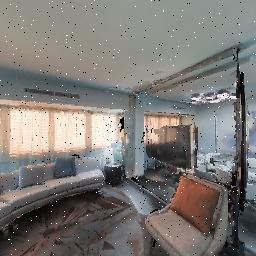sofa: (0, 149, 110, 243), (139, 158, 234, 256)
